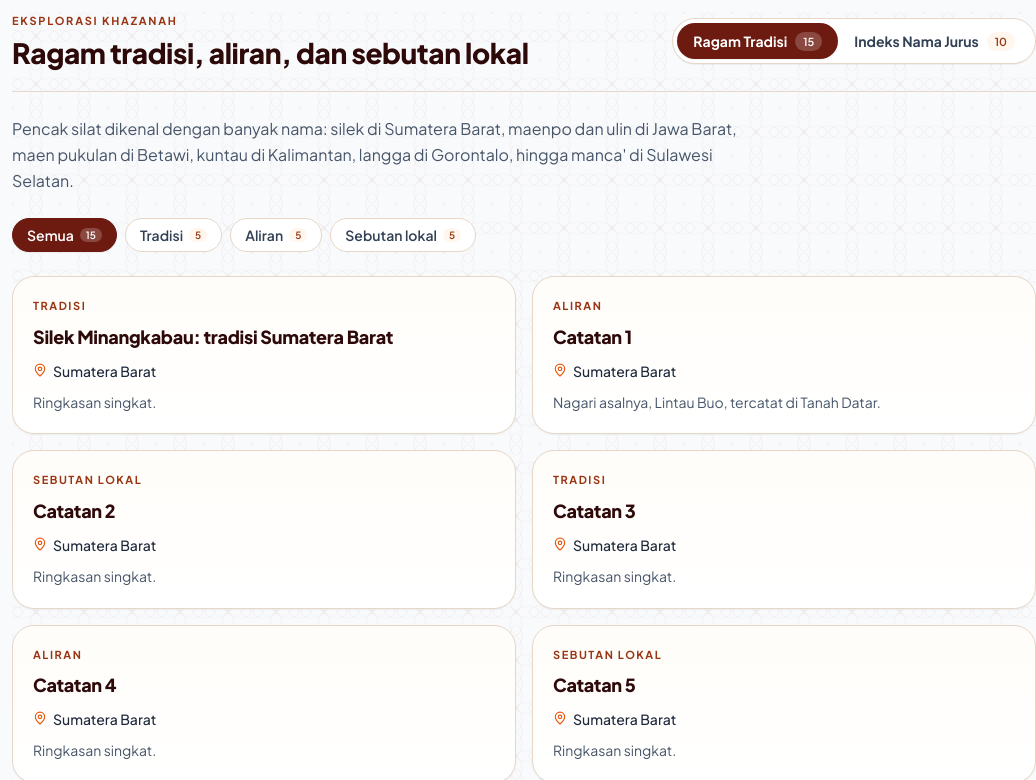
Test: HeritageSectionSwitcher › memiliki sub-filter Semua, Tradisi, Aliran, Sebutan lokal yang menyaring kartu
Expected: the button "Semua 15" is shown, [12,218,117,252]
Expected: the button "Tradisi 5" is shown, [125,218,222,252]
What coordinates should you click on to do the following:
click the button "Aliran 5"
I would click on:
 (276, 235)
Its box is [230,218,322,252].
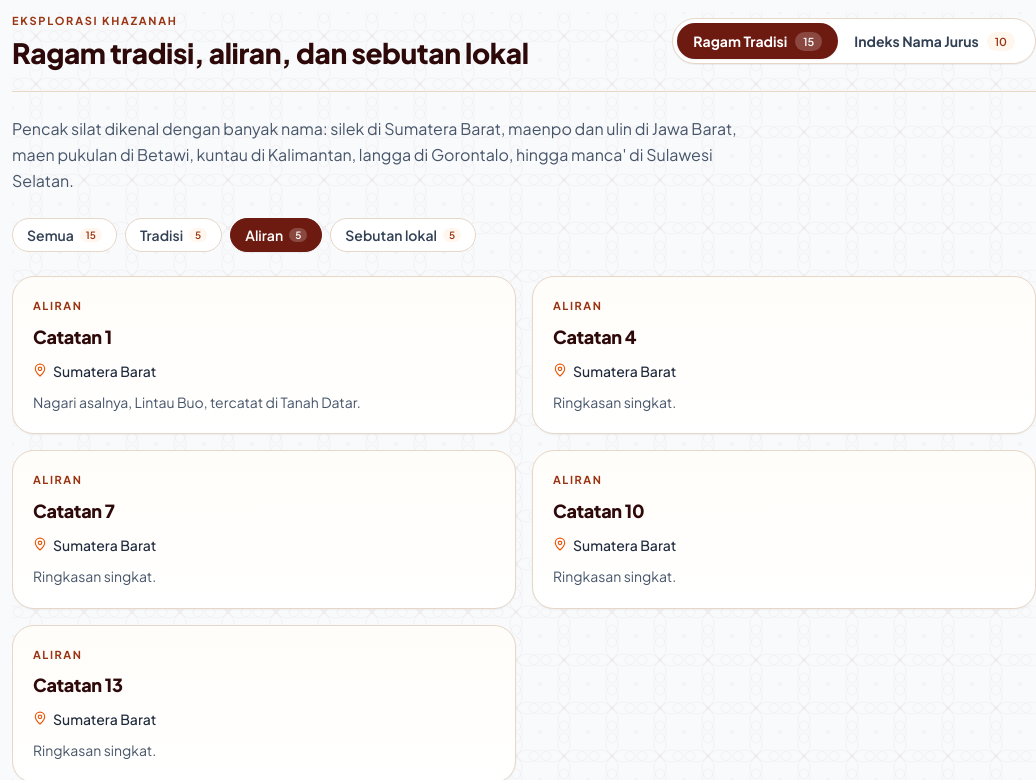
Now the button "Aliran 5" is pressed, box [230,218,322,252]
